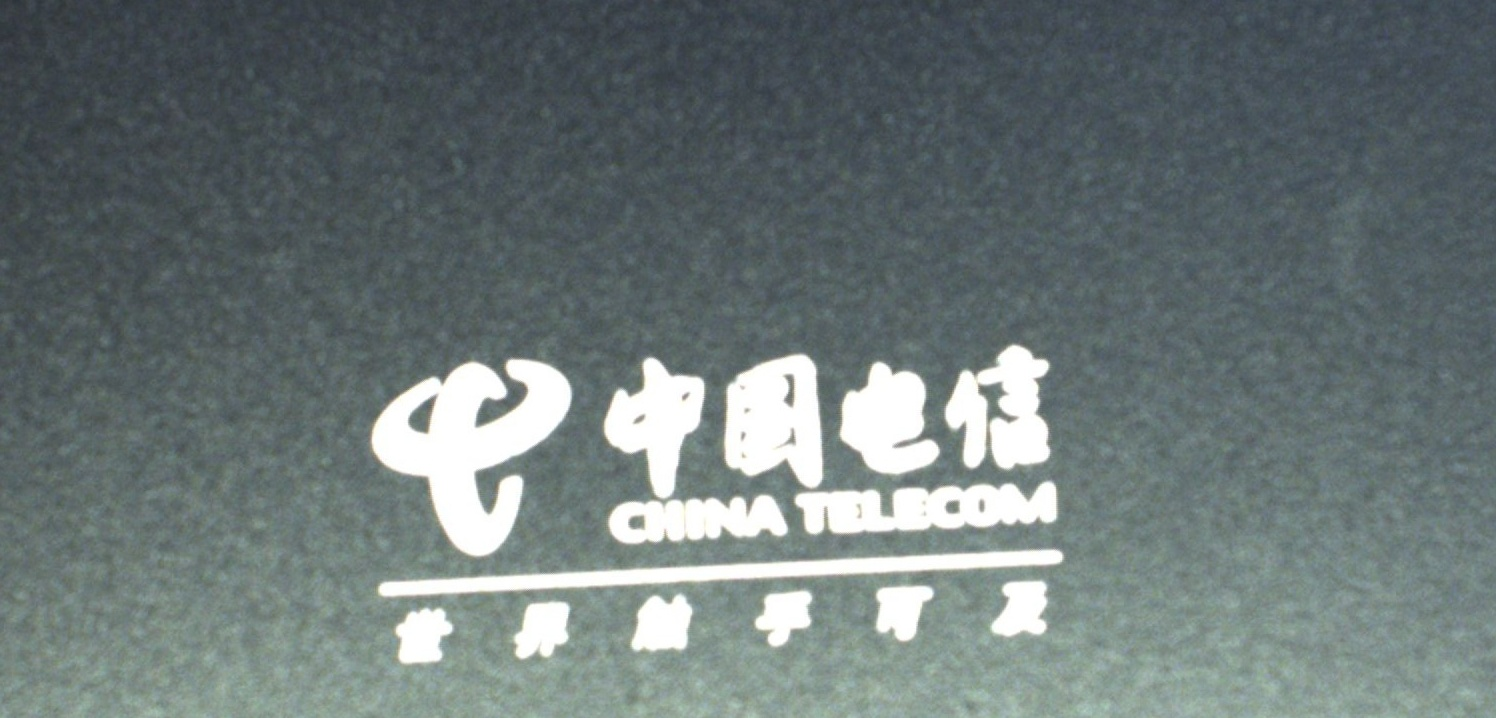AB_ChinaTelecom: (352, 344, 1062, 679)
